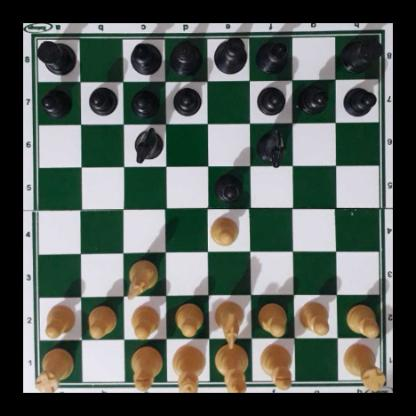black-bishop: (253, 37, 290, 72), (129, 40, 161, 73)
black-king: (212, 38, 248, 75)
black-knight: (256, 125, 286, 165), (133, 126, 162, 161)
black-pawn: (343, 84, 375, 116), (214, 171, 244, 203), (256, 84, 286, 115), (88, 84, 116, 116), (172, 84, 200, 116), (300, 83, 328, 114), (41, 87, 70, 116), (131, 87, 158, 117)
black-queen: (169, 37, 203, 72)
black-rook: (34, 37, 76, 75), (341, 32, 379, 72)
white-bishop: (130, 347, 164, 393), (259, 344, 292, 388)
white-king: (214, 341, 248, 391)
white-knight: (213, 300, 245, 349), (125, 257, 157, 298)
white-pawn: (346, 301, 379, 336), (298, 299, 331, 334), (43, 302, 75, 338), (173, 302, 203, 336), (258, 301, 288, 335), (130, 305, 160, 339), (86, 303, 116, 336), (209, 215, 238, 245)
white-queen: (171, 344, 205, 392)
white-rook: (344, 340, 383, 390), (37, 343, 71, 393)
